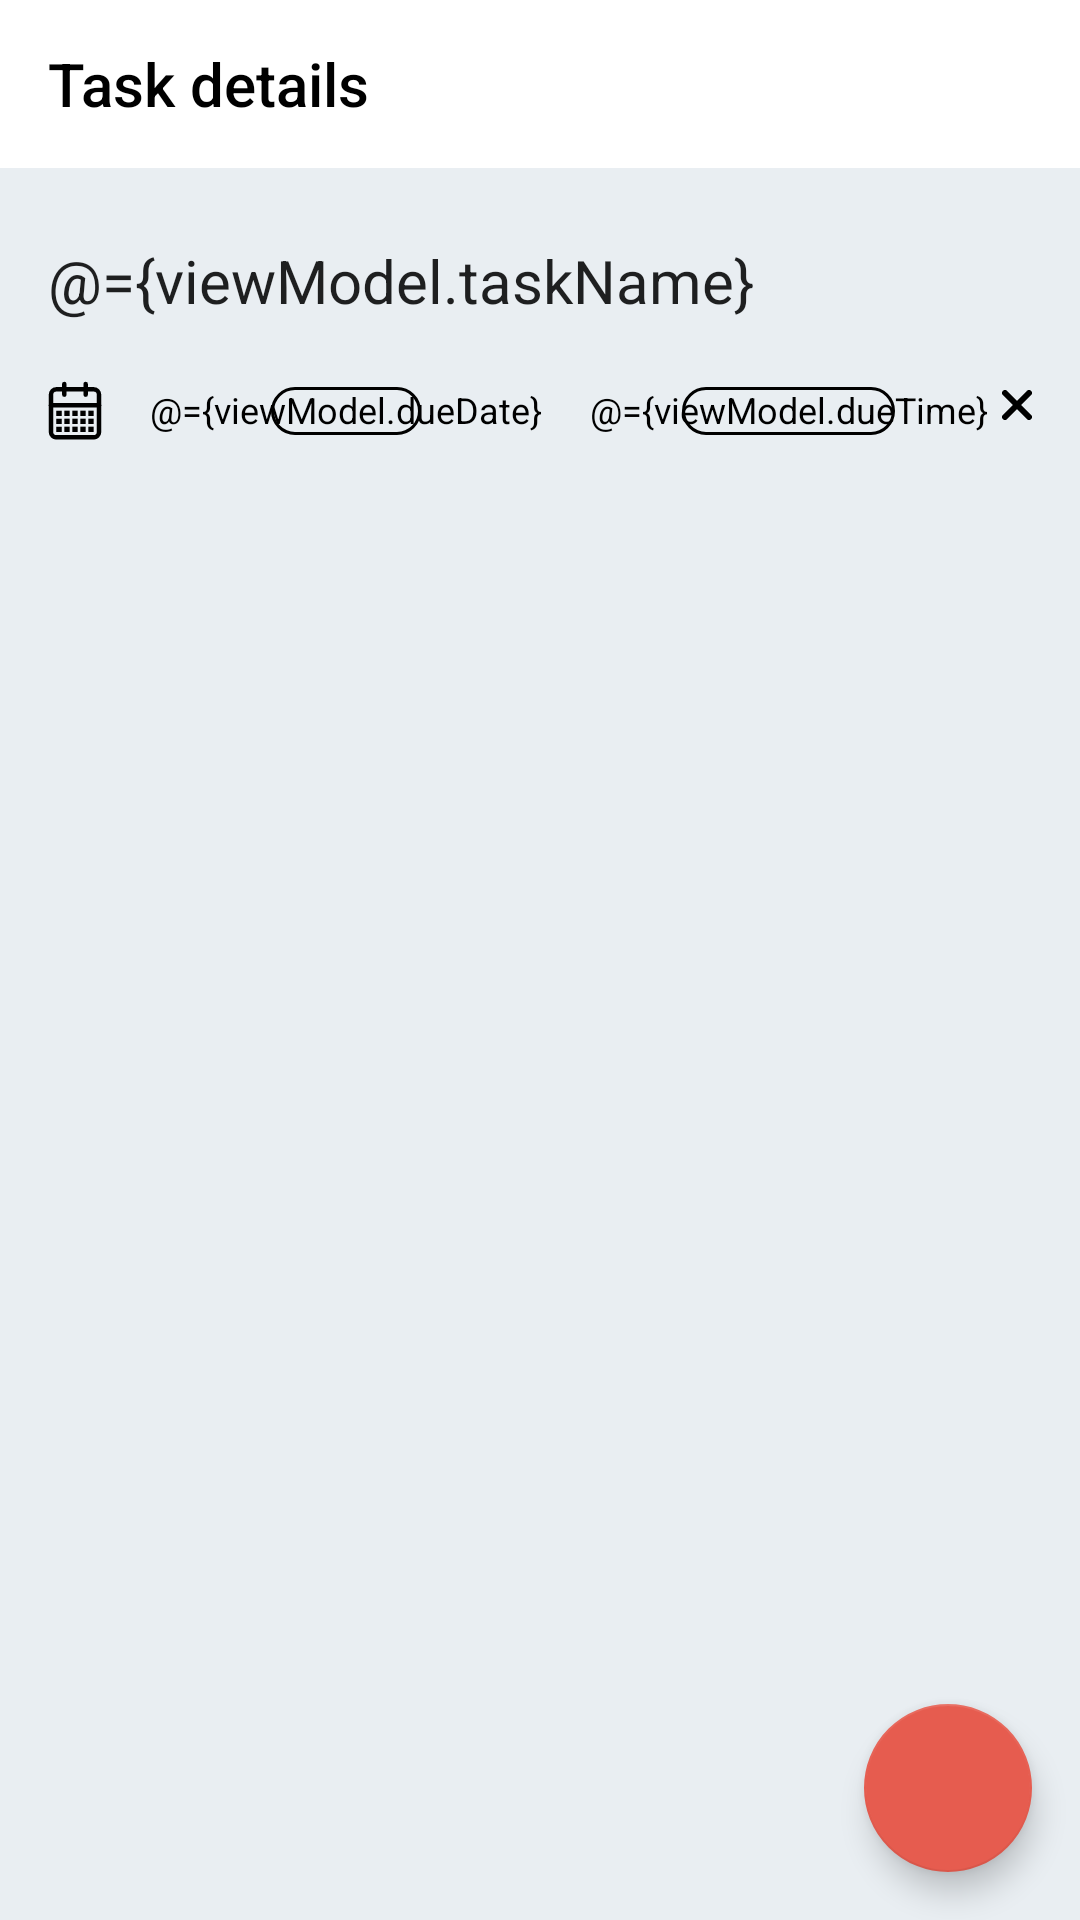

Icon bounding boxes for this 1080 × 1920 phone screenshot, format box=[x1, y1, x2, y2]:
calendar grid: box=[48, 381, 102, 440]
cancel: box=[1002, 390, 1032, 420]
